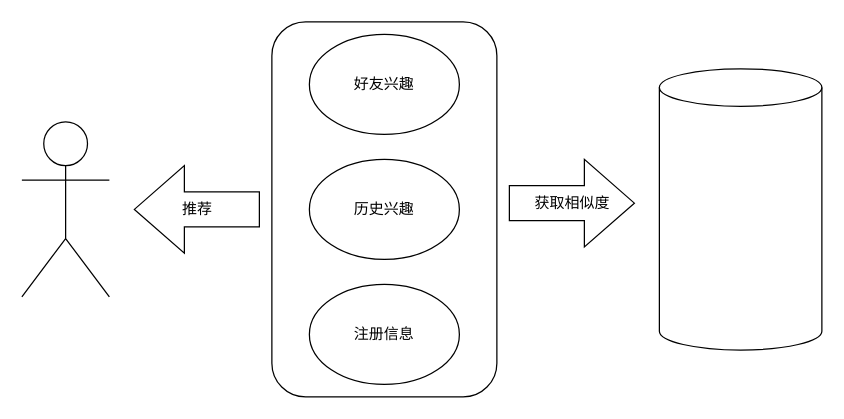
Image size: 844x419. Some labels were removed from this diagram. The box of each missing label's shape, as (x1, y1, x2, y2) in pixels:
各类商品总集: (658, 68, 822, 350)
用户: (21, 121, 109, 297)
